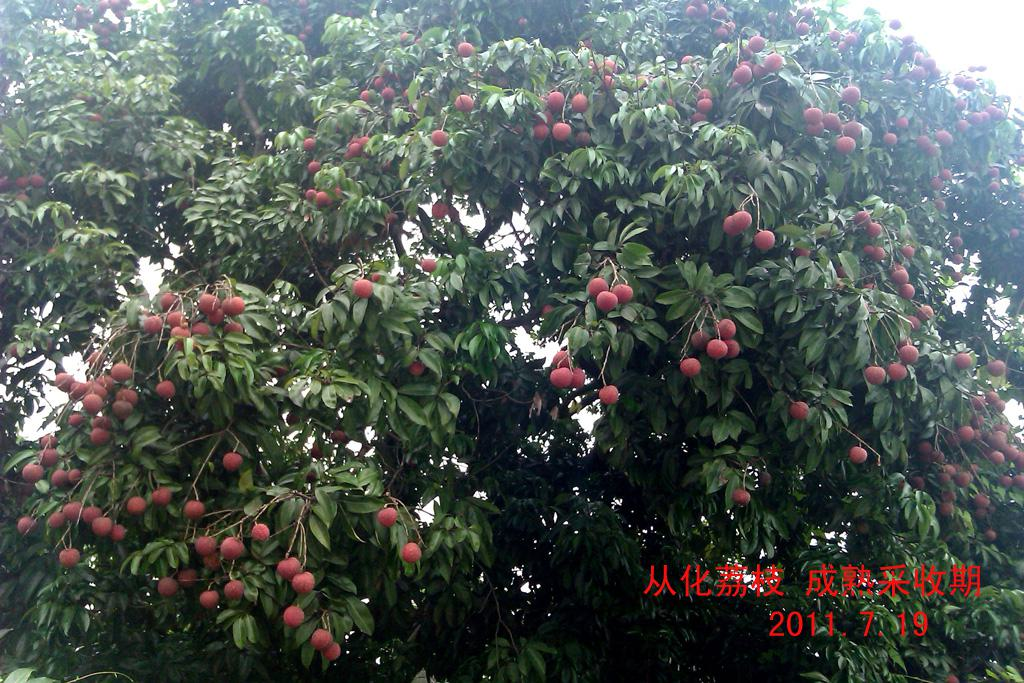果实成熟期: (980, 424, 1017, 465), (312, 626, 341, 663), (853, 210, 883, 238), (167, 310, 189, 343), (967, 104, 1005, 123), (57, 545, 82, 569), (548, 366, 573, 390), (15, 514, 39, 538), (281, 603, 306, 626), (593, 290, 619, 312), (934, 461, 961, 482), (219, 537, 243, 560), (596, 383, 620, 406), (125, 494, 149, 517), (292, 571, 316, 594), (149, 486, 174, 508), (221, 294, 246, 316), (175, 566, 198, 589), (182, 498, 206, 520), (706, 335, 727, 360), (80, 505, 105, 526), (110, 360, 133, 382), (984, 390, 1006, 412), (713, 317, 736, 338), (679, 356, 703, 376), (585, 277, 609, 297), (221, 450, 243, 471), (60, 500, 82, 521), (45, 509, 66, 531), (731, 210, 754, 230), (156, 290, 179, 310), (861, 244, 885, 263), (195, 535, 216, 556), (763, 52, 784, 73), (248, 522, 270, 542), (197, 589, 219, 609), (551, 121, 573, 141), (376, 505, 399, 524), (896, 343, 919, 362), (953, 74, 977, 92), (278, 557, 298, 578), (731, 486, 751, 507), (840, 85, 861, 105), (82, 392, 103, 412), (112, 399, 133, 419), (91, 517, 112, 537), (401, 542, 423, 561), (788, 399, 810, 418), (57, 371, 76, 393), (841, 121, 864, 139), (108, 522, 128, 542), (545, 89, 565, 109), (142, 315, 163, 334), (731, 66, 753, 84), (225, 579, 245, 598), (22, 462, 42, 481), (50, 468, 69, 488), (754, 230, 775, 248), (748, 34, 766, 55), (571, 92, 589, 113), (835, 135, 856, 153), (913, 302, 934, 320), (92, 414, 113, 432), (613, 283, 634, 301), (454, 94, 476, 111), (804, 106, 826, 123), (864, 364, 883, 383), (936, 129, 955, 148), (419, 255, 439, 273), (155, 380, 175, 398), (90, 428, 110, 446), (431, 199, 448, 220), (886, 363, 907, 380), (988, 358, 1005, 379), (894, 264, 911, 285), (353, 278, 371, 297), (954, 351, 971, 371), (805, 121, 826, 137), (955, 425, 974, 442), (156, 578, 176, 594), (533, 122, 550, 140), (910, 66, 928, 83), (70, 382, 87, 400), (970, 493, 990, 508), (900, 244, 917, 261), (849, 446, 867, 462), (969, 394, 984, 413), (430, 130, 447, 146), (67, 466, 83, 483), (914, 440, 932, 455), (921, 57, 939, 72), (535, 110, 554, 124), (313, 190, 329, 206), (380, 86, 396, 102), (696, 97, 713, 112), (799, 4, 814, 21), (599, 60, 617, 74), (457, 41, 472, 57), (193, 321, 209, 336), (915, 135, 931, 150), (31, 174, 47, 189), (13, 174, 29, 189), (348, 142, 363, 157), (904, 315, 920, 329), (955, 472, 969, 487), (900, 284, 915, 298), (896, 115, 910, 130), (827, 29, 842, 43), (385, 211, 399, 226), (305, 160, 321, 173), (929, 450, 945, 463), (96, 26, 112, 39), (683, 6, 700, 18), (690, 111, 707, 123), (108, 1, 125, 13), (794, 21, 808, 35), (303, 136, 316, 151), (949, 235, 964, 248), (882, 133, 898, 145), (888, 17, 902, 30), (971, 414, 984, 428), (844, 33, 858, 46), (715, 6, 728, 20), (988, 179, 1001, 193), (999, 475, 1012, 488), (929, 176, 942, 189), (952, 251, 964, 265), (1014, 474, 1024, 490), (939, 167, 951, 180), (956, 118, 968, 131), (517, 17, 531, 28), (713, 27, 728, 37), (984, 529, 996, 541), (358, 90, 371, 101), (373, 77, 385, 88), (302, 25, 314, 36), (989, 166, 999, 178)
